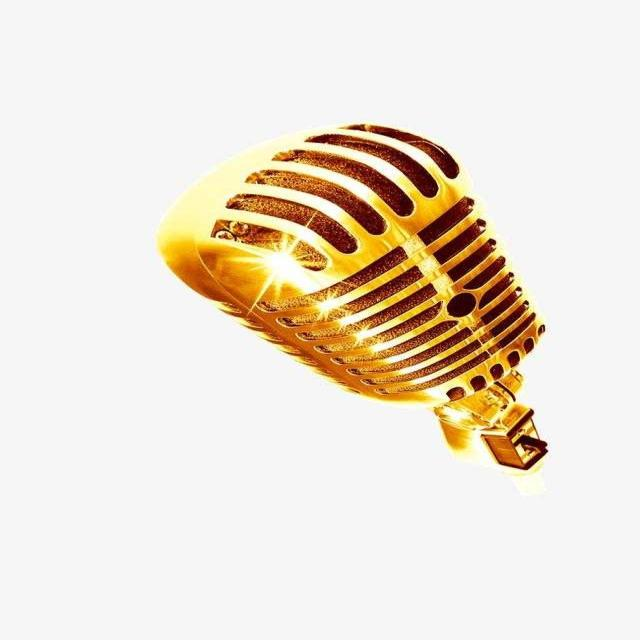microphone: (152, 126, 546, 487)
